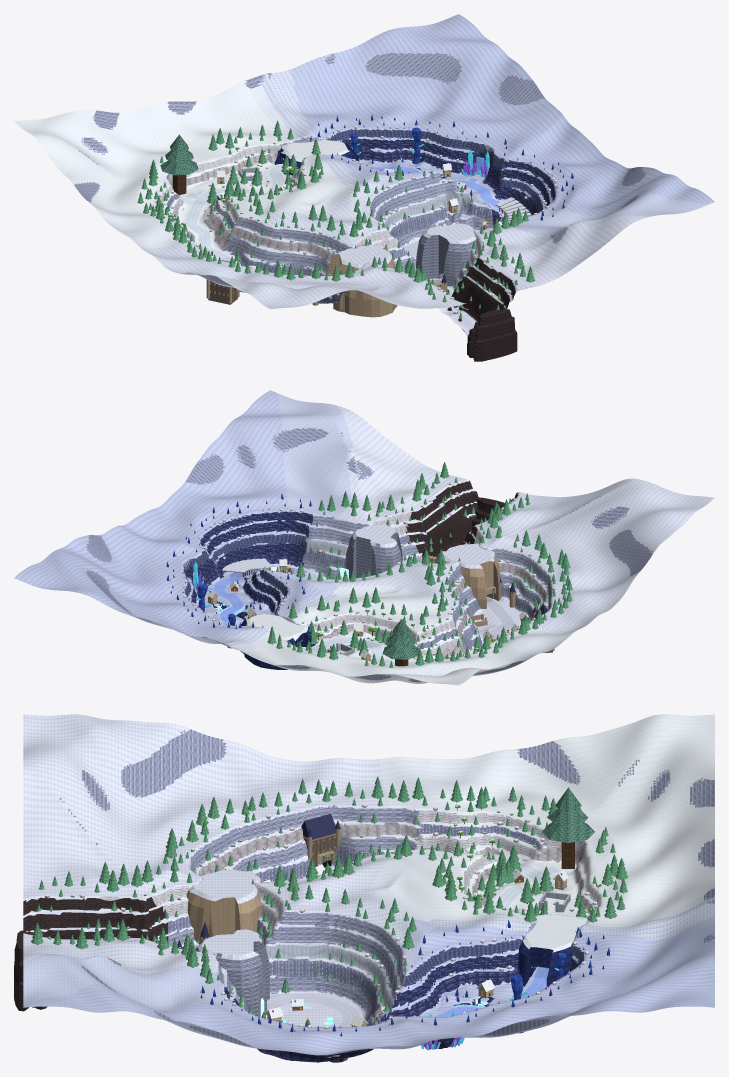
3 views of the same model, one above another, from view 1: azimuth 30°, elevation 25°; view 2: azimuth 150°, elevation 25°; view 3: azimuth 270°, elevation 25° (orthographic). The views are drawn at different scales.
Parts seen in each view (by area): view 1: Snow Kingdom, Frozen Falls Rock, Gatehouse Rock, Gorge Bend 3, Road 09 summit, Ice Cave Rock, Great Keep 30 20 30; view 2: Snow Kingdom, Frozen Falls Rock, Gatehouse Rock, Ice Cave Rock, Road 15 aurora, Road 09 summit, Road 05 frostveil; view 3: Snow Kingdom, Gatehouse Rock, Frozen Falls Rock, Ice Cave Rock, Great Keep 30 20 30, Road 19 lake, Giant Tree Crown 0, Road 09 summit, Gorge Bend 3.
Boxes of the visible parts, bbox=[...] form: Snow Kingdom: bbox=[14, 14, 714, 335]; Frozen Falls Rock: bbox=[416, 223, 476, 286]; Gatehouse Rock: bbox=[327, 245, 397, 317]; Gorge Bend 3: bbox=[473, 309, 517, 361]; Road 09 summit: bbox=[184, 164, 285, 248]; Ice Cave Rock: bbox=[274, 140, 359, 175]; Great Keep 30 20 30: bbox=[206, 257, 239, 304]; Snow Kingdom: bbox=[14, 390, 714, 685]; Frozen Falls Rock: bbox=[344, 524, 402, 579]; Gatehouse Rock: bbox=[434, 544, 500, 608]; Ice Cave Rock: bbox=[240, 613, 315, 669]; Road 15 aurora: bbox=[212, 566, 279, 605]; Road 09 summit: bbox=[302, 638, 415, 665]; Road 05 frostveil: bbox=[487, 597, 514, 640]; Snow Kingdom: bbox=[23, 714, 714, 1062]; Gatehouse Rock: bbox=[186, 869, 262, 944]; Frozen Falls Rock: bbox=[196, 929, 269, 1016]; Ice Cave Rock: bbox=[518, 914, 587, 986]; Great Keep 30 20 30: bbox=[301, 813, 340, 866]; Road 19 lake: bbox=[267, 994, 361, 1027]; Giant Tree Crown 0: bbox=[542, 822, 594, 842]; Road 09 summit: bbox=[486, 857, 551, 915]; Gorge Bend 3: bbox=[14, 930, 30, 1011].
Bounding box in the file's own units: 620 × 134 × 629.
Materials: 106 (106 with a texture image).
